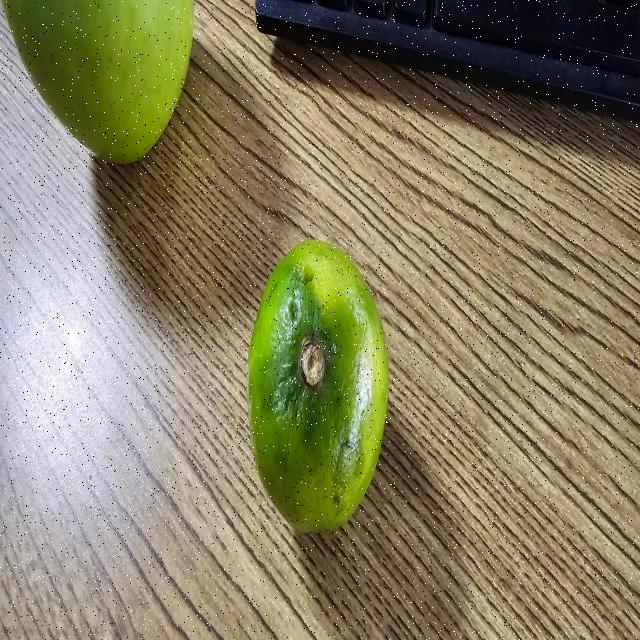Lemon: (242, 224, 400, 559)
